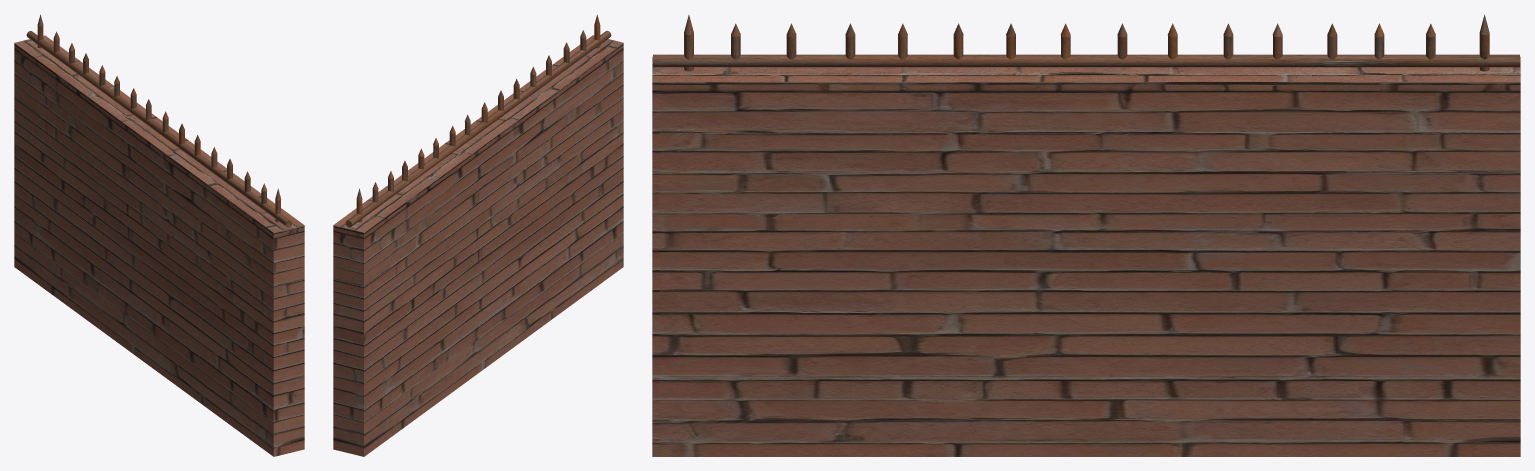
The model's file is wall1.fbx.
The picture shows the model from 3 angles, left to right: view 1: azimuth 30°, elevation 25°; view 2: azimuth 150°, elevation 25°; view 3: azimuth 270°, elevation 25°; orthographic projection. The views are drawn at different scales.
Visible parts, largest first — view 1: Cube, Long poll, Cylinder.001; view 2: Cube, Long poll, Cylinder.001; view 3: Cube, Long poll, Cylinder.001.
Boxes of the visible parts, x1,y1,x2,y2 form: Cube: (14,35,304,456); Long poll: (26,31,292,227); Cylinder.001: (37,14,281,222); Cube: (333,35,623,456); Long poll: (345,30,611,227); Cylinder.001: (356,14,600,222); Cube: (652,56,1520,456); Long poll: (653,54,1519,67); Cylinder.001: (684,14,1489,71).
Size of the model in its own units: 56.97 by 453 by 828.
